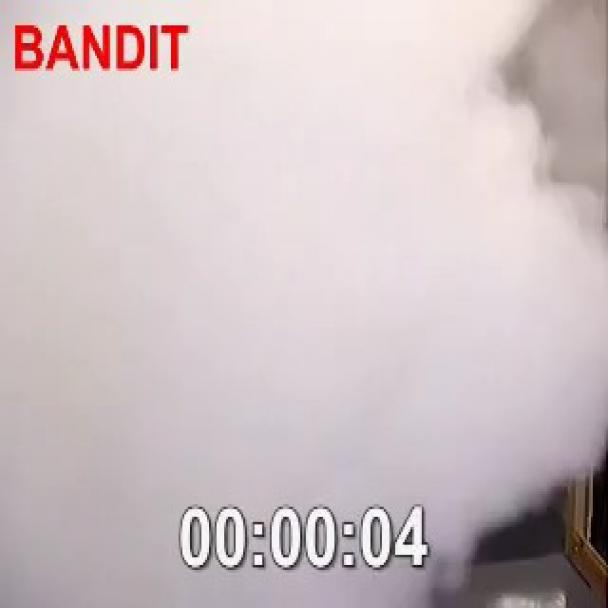smoke: (0, 0, 596, 589)
